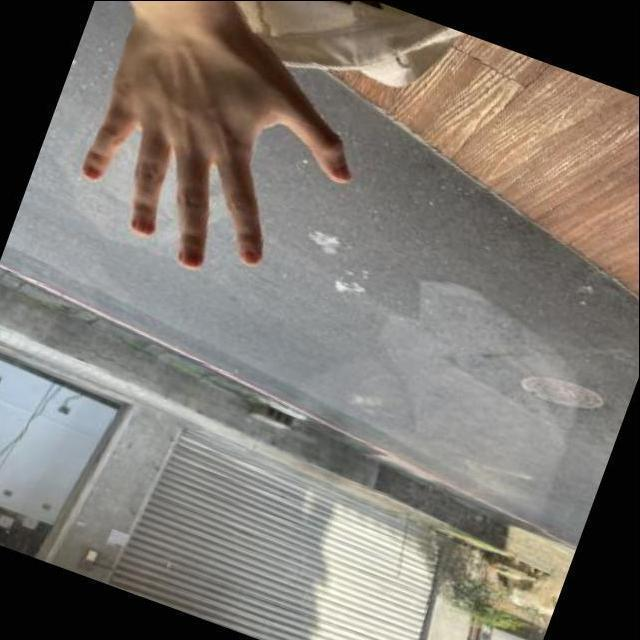hand: (42, 0, 404, 328)
